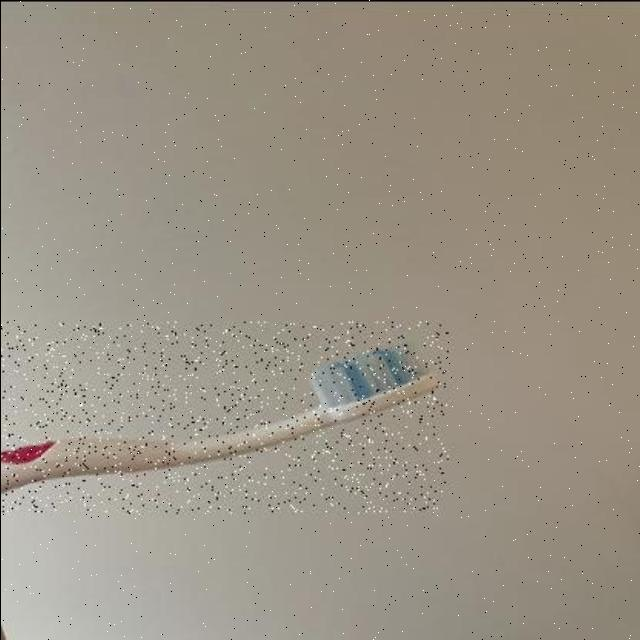toothbrush: (0, 320, 448, 512)
